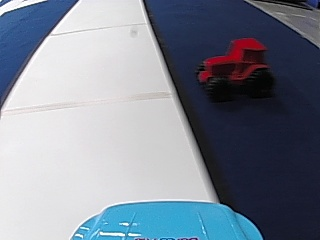tractor: (195, 35, 272, 101)
